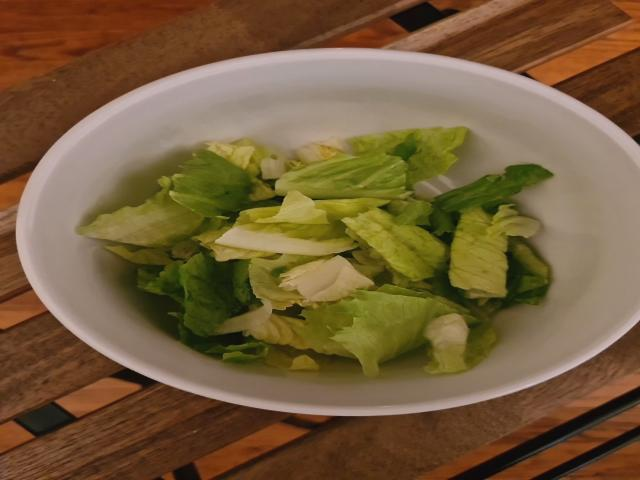kichen waste: (77, 129, 553, 376)
